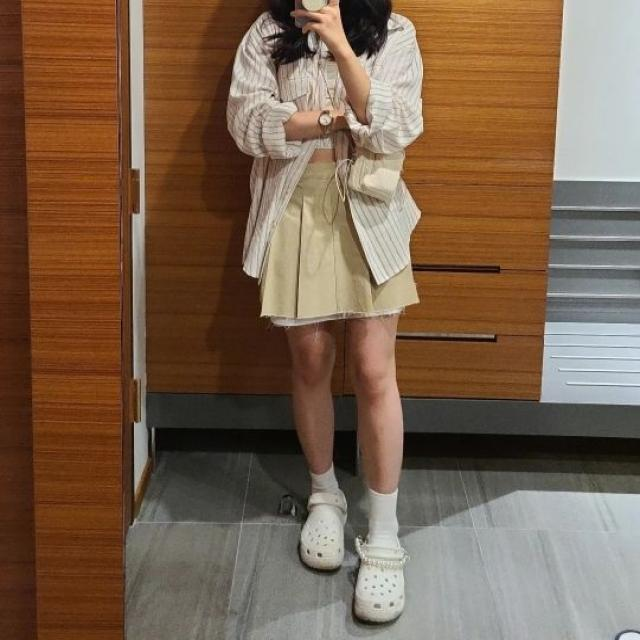shirt: (225, 5, 424, 288)
skirt: (258, 161, 422, 327)
